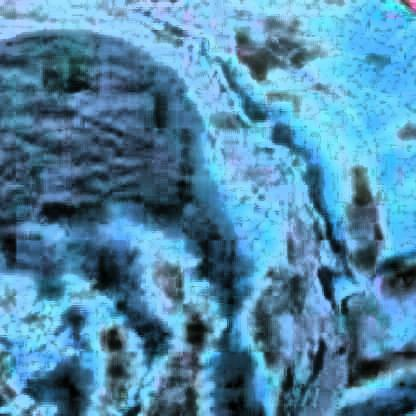sheen: (1, 2, 416, 411), (73, 229, 224, 412), (0, 278, 72, 416)
